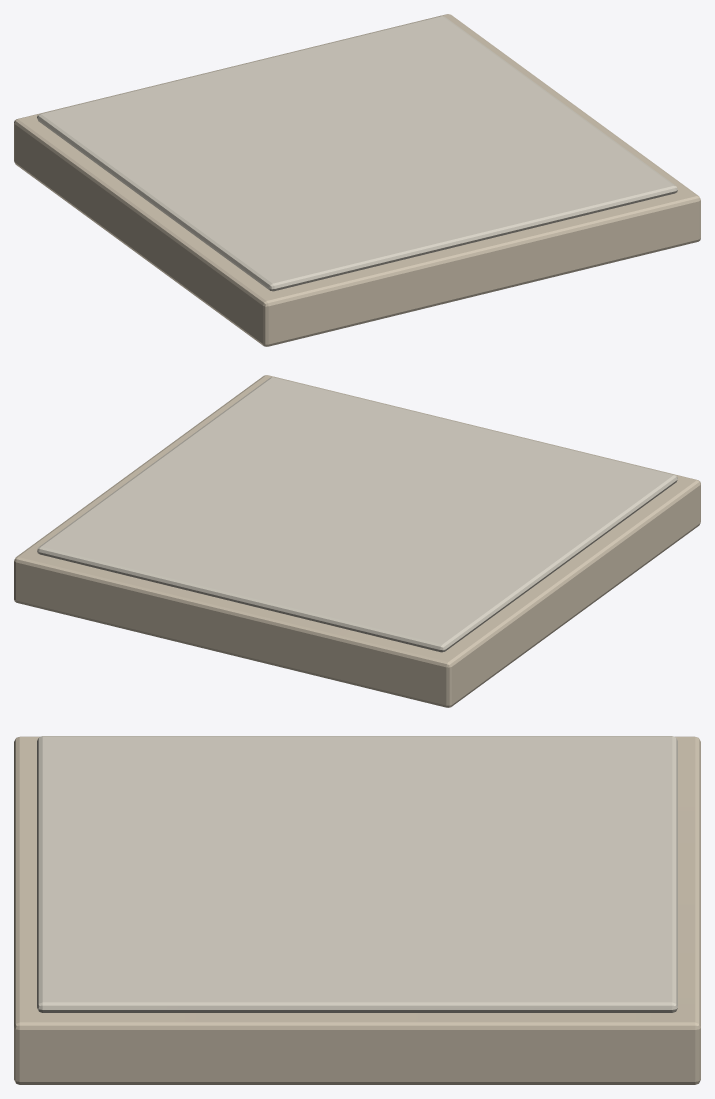
The model's file is shop_plinth_s.glb.
3 renders of one model, top to bottom at view 1: azimuth 30°, elevation 25°; view 2: azimuth 150°, elevation 25°; view 3: azimuth 270°, elevation 25°, orthographic. The views are drawn at different scales.
Bounding box in the file's own units: 1.2 × 0.14 × 1.2.
